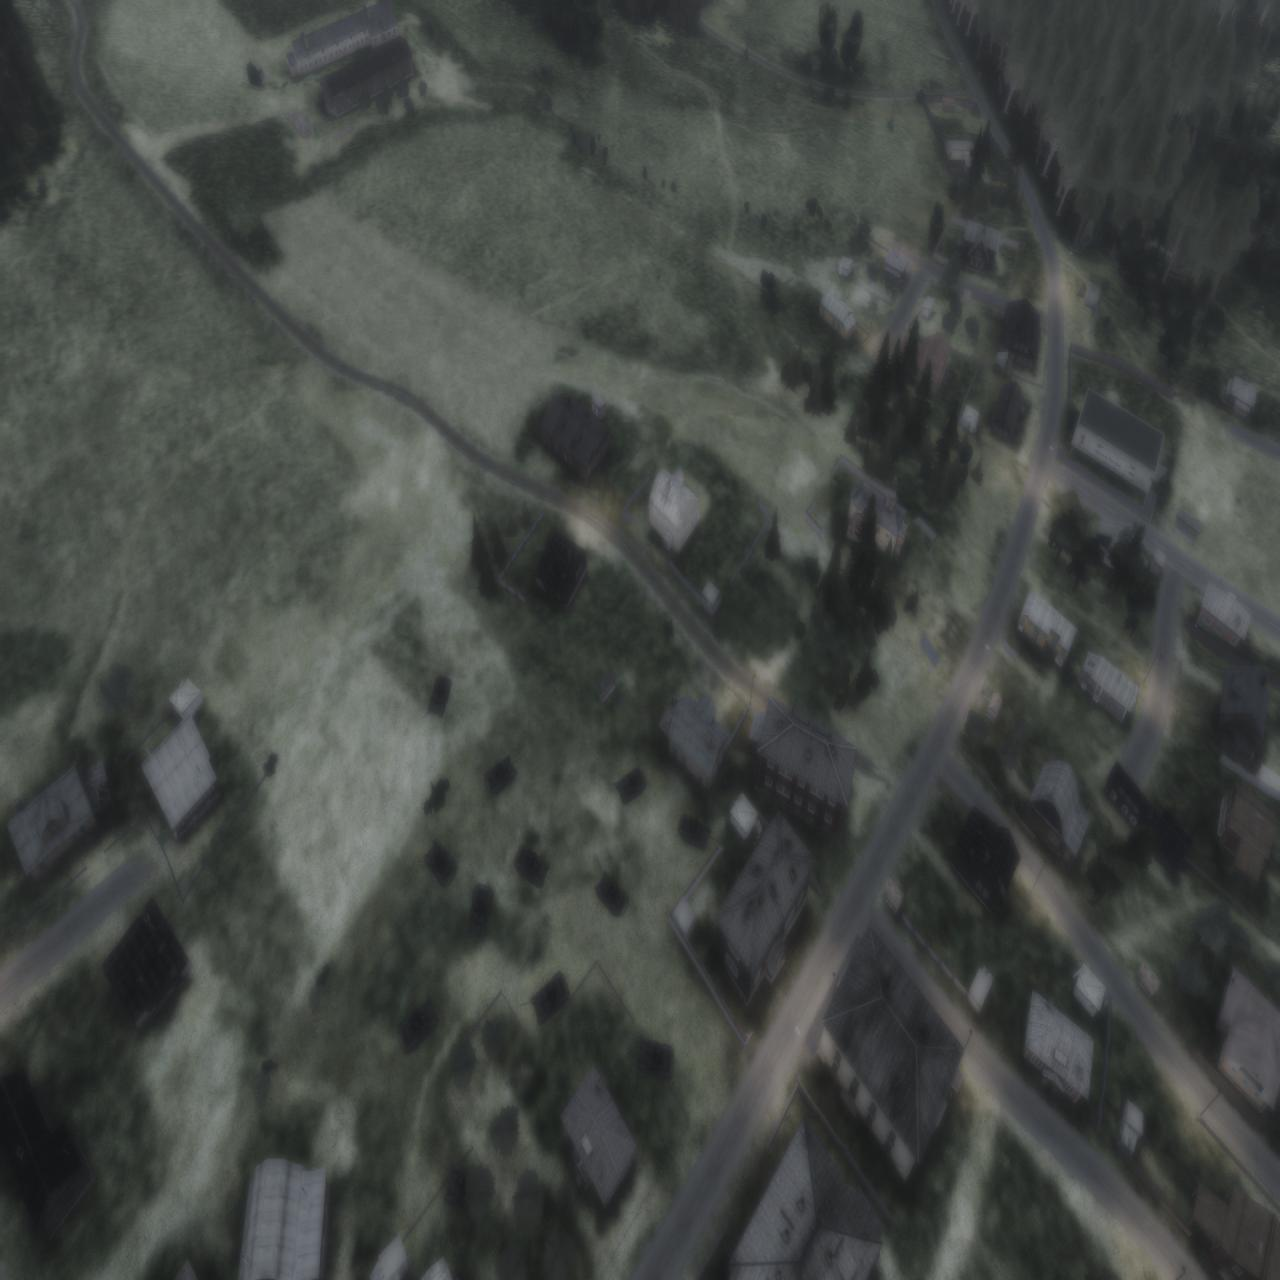MIL_Veh: (522, 971, 570, 1021), (632, 1033, 676, 1081), (512, 842, 553, 893), (422, 836, 458, 892), (593, 863, 629, 919), (397, 1001, 440, 1049), (467, 880, 493, 944), (483, 753, 519, 799), (612, 765, 649, 810), (676, 810, 712, 852), (424, 673, 452, 720)
